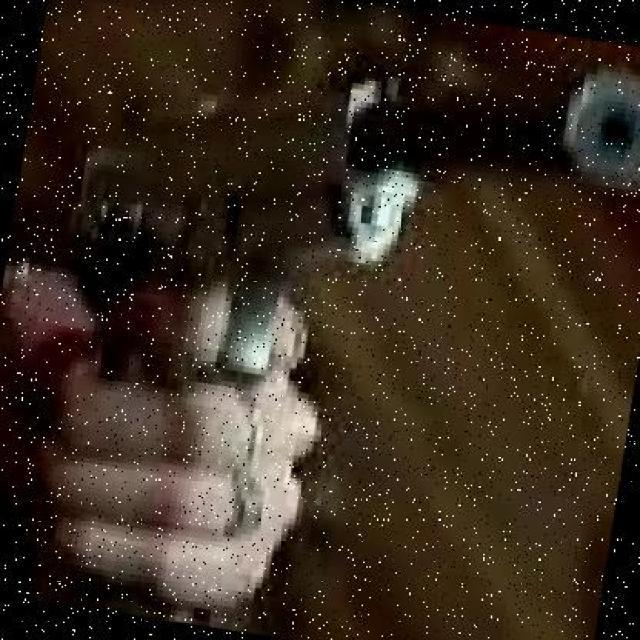rifle: (38, 60, 362, 401), (36, 275, 322, 617), (334, 65, 638, 266), (334, 72, 426, 266), (1, 260, 97, 365), (338, 164, 422, 264)
